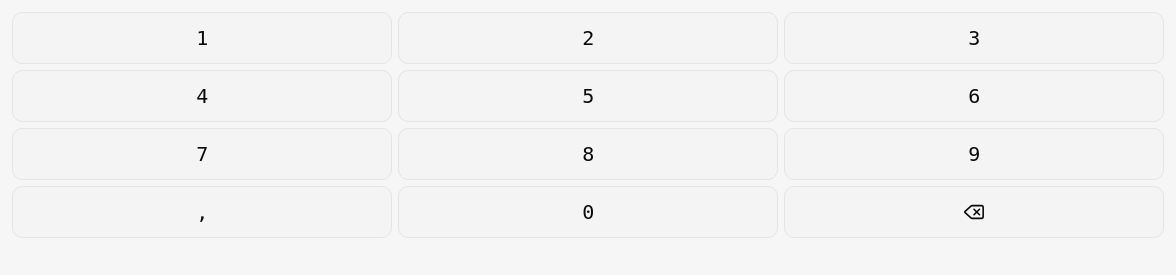
Test: NumericKeypad › empezar por la coma escribe «0,»
This screenshot has width=1176, height=275.
Click the button named "Coma decimal" at (202, 212), box [12, 186, 392, 238]
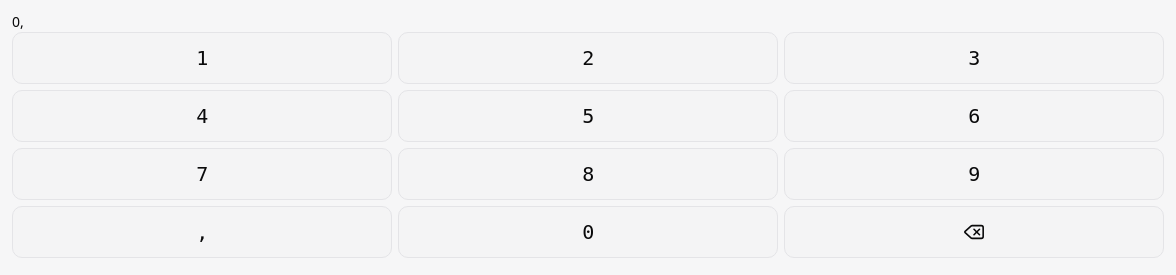
expect the text named "Importe tecleado" reads "0,": met, box [12, 12, 24, 31]
